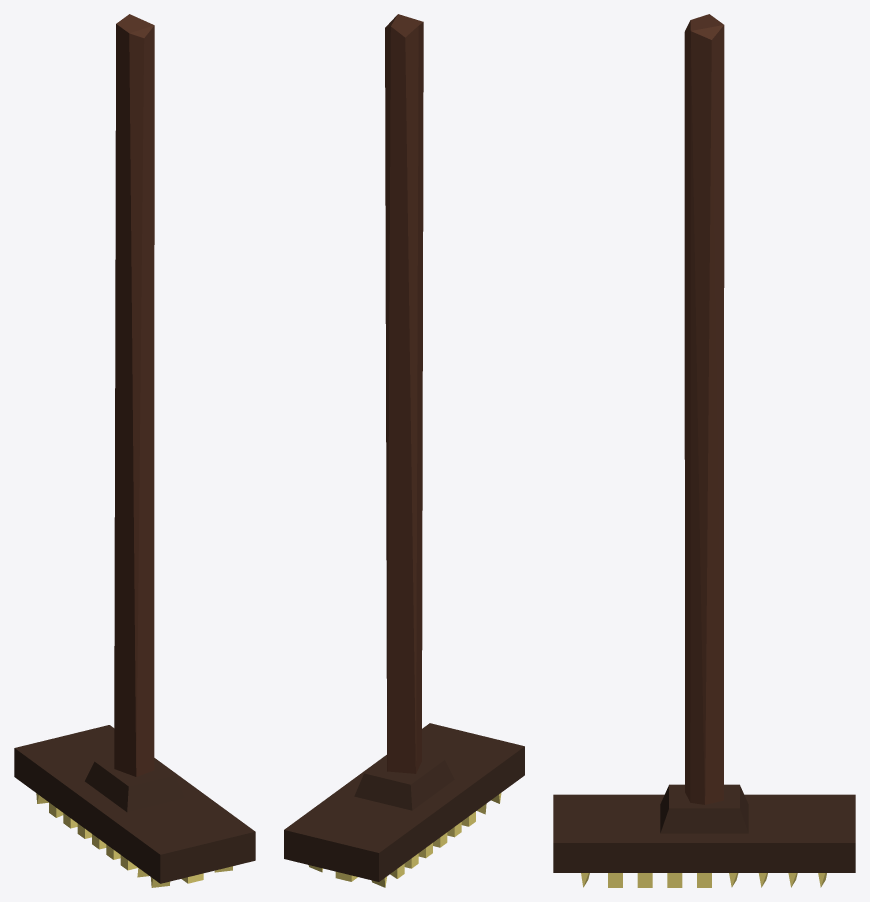
File: Швабра.fbx
3 views of the same model, side by side, from view 1: azimuth 30°, elevation 25°; view 2: azimuth 150°, elevation 25°; view 3: azimuth 270°, elevation 25° (orthographic). The views are drawn at different scales.
Parts seen in each view (by area): view 1: Cylinder, Cube, Cube.001; view 2: Cylinder, Cube, Cube.001; view 3: Cylinder, Cube, Cube.001.
Part boxes in pixels (x1,y1,x2,y2): Cylinder: [114, 14, 154, 776]; Cube: [14, 725, 255, 883]; Cube.001: [36, 793, 233, 887]; Cylinder: [385, 14, 423, 773]; Cube: [284, 723, 524, 881]; Cube.001: [308, 793, 501, 887]; Cylinder: [684, 14, 724, 804]; Cube: [553, 784, 855, 872]; Cube.001: [581, 873, 826, 887].
Size of the model in its own units: 56.92 by 467 by 151.
